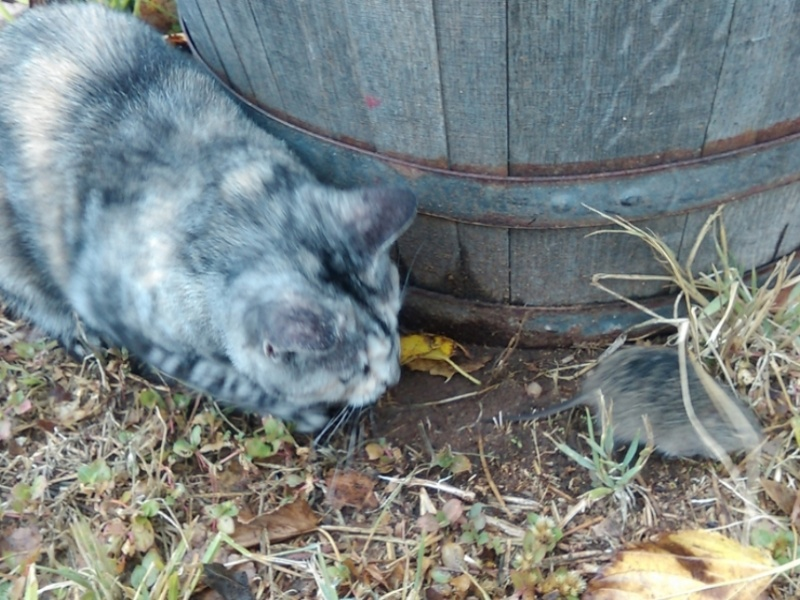cat: (5, 7, 423, 444)
